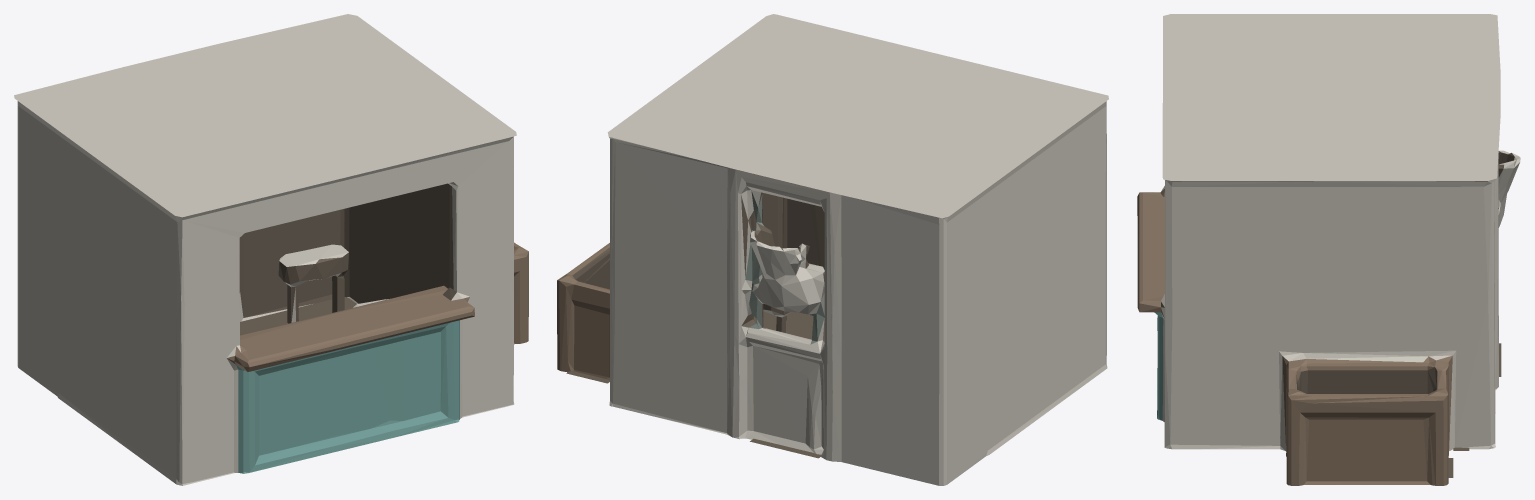
File: etape-1.glb
3 views of the same model, side by side, from view 1: azimuth 30°, elevation 25°; view 2: azimuth 150°, elevation 25°; view 3: azimuth 270°, elevation 25° (orthographic).
Visible parts, largest first — view 1: geometry_0; view 2: geometry_0; view 3: geometry_0.
Boxes of the visible parts, x1,y1,x2,y2 form: geometry_0: (14, 14, 528, 485); geometry_0: (557, 14, 1108, 485); geometry_0: (1137, 14, 1520, 485).
Size of the model in its own units: 0.9336 by 0.5793 by 0.7465.
